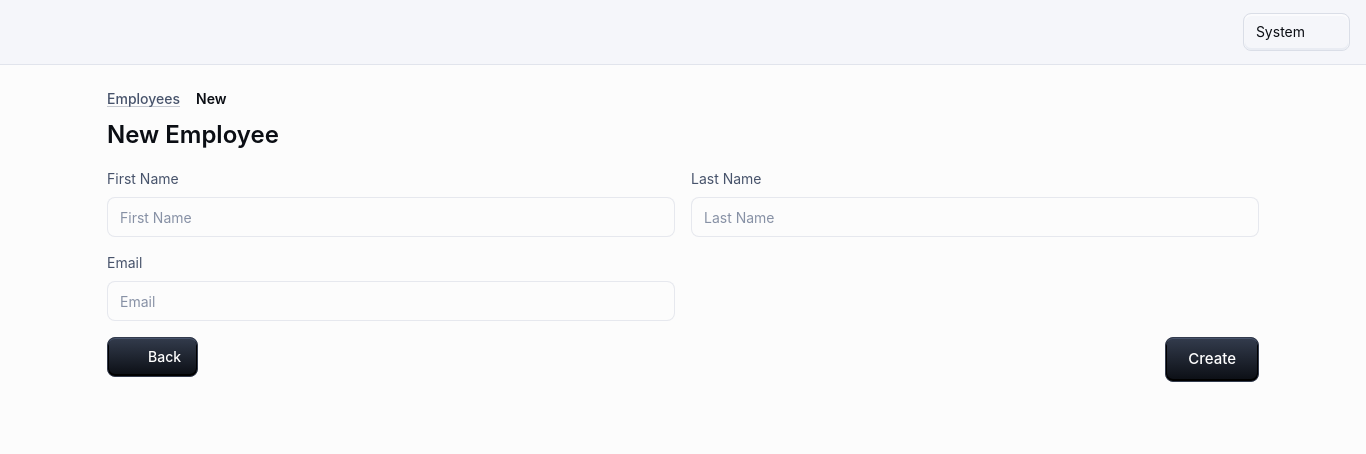
Test: Create Page - New Employee › shows validation errors on empty submit
What coordinates should you click on to do the following:
click the button with id "employee-submit"
I would click on:
 (1212, 359)
Its box is left=1165, top=337, right=1259, bottom=381.
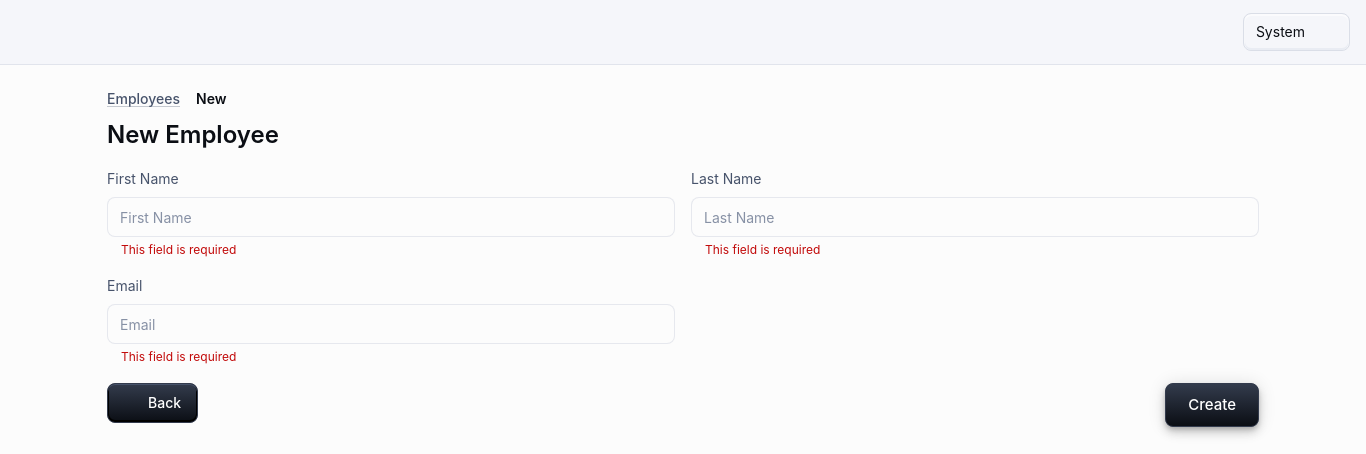
Expected: the text "This field is required" below "First Name" is shown, left=121, top=242, right=236, bottom=257
Expected: the text "This field is required" below "Last Name" is shown, left=705, top=242, right=820, bottom=257
Expected: the text "This field is required" below "Email" is shown, left=121, top=349, right=236, bottom=364
